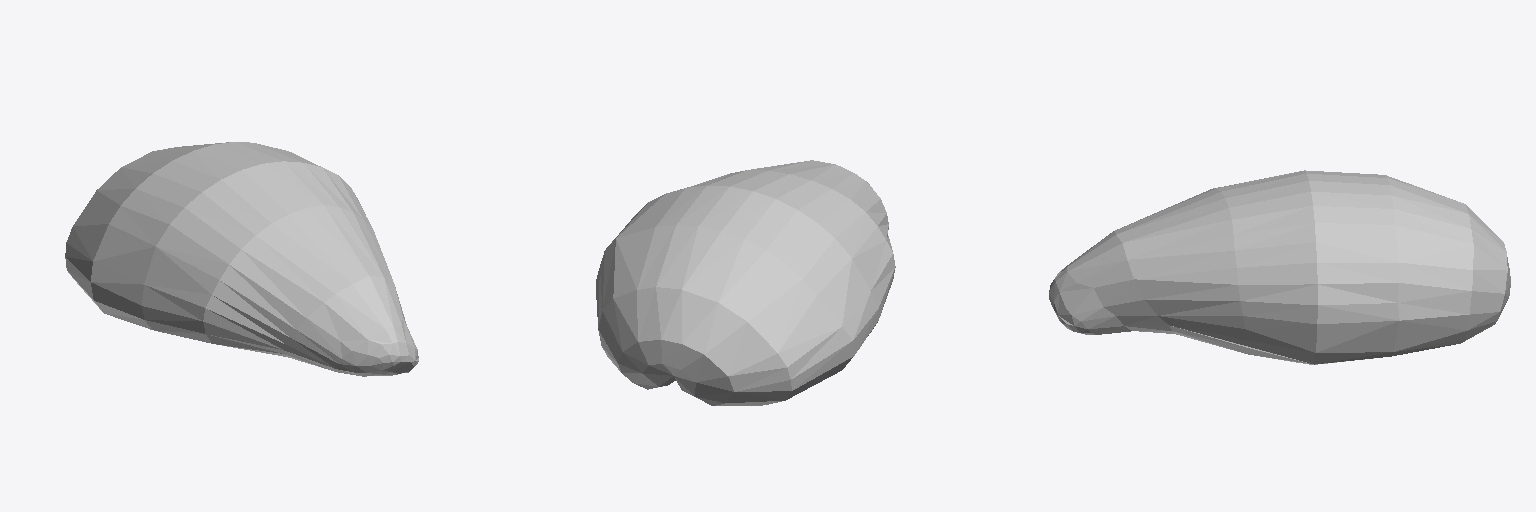
Rendered from seed2.obj.
The picture shows the model from 3 angles: view 1: azimuth 30°, elevation 25°; view 2: azimuth 150°, elevation 25°; view 3: azimuth 270°, elevation 25°; orthographic projection.
Parts seen in each view (by area): view 1: Sphere; view 2: Sphere; view 3: Sphere.
Boxes of the visible parts, x1,y1,x2,y2 form: Sphere: [65, 142, 418, 376]; Sphere: [596, 160, 895, 405]; Sphere: [1049, 170, 1510, 364].
Bounding box in the file's own units: 1.58 × 0.9064 × 2.52.